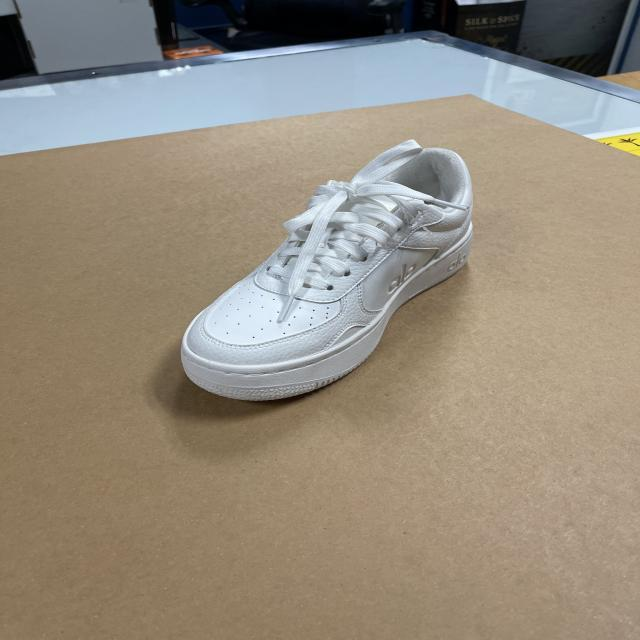shoe: (177, 138, 475, 404)
